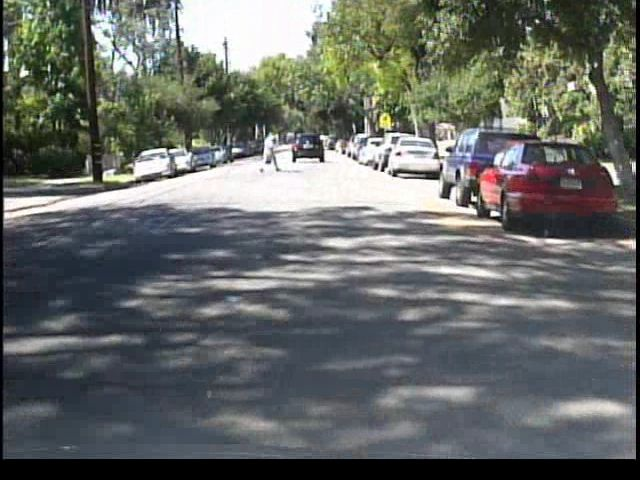person: (258, 120, 283, 167)
